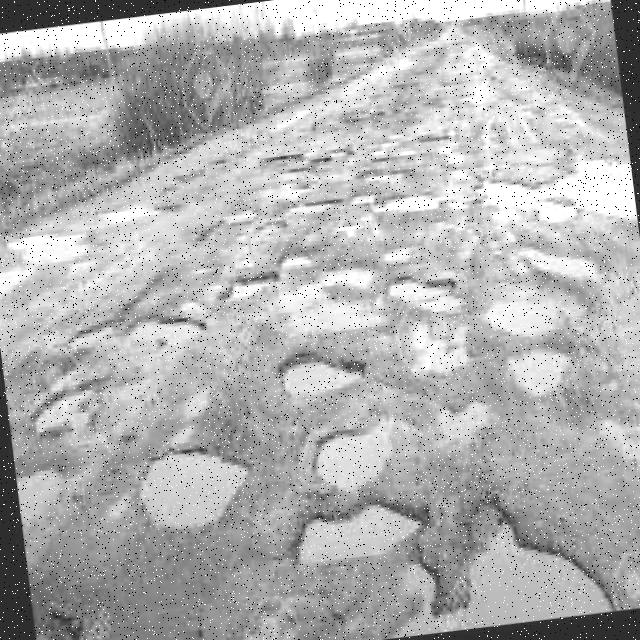pothole: (399, 531, 612, 637), (139, 452, 248, 530), (300, 509, 419, 564), (315, 425, 391, 488), (276, 351, 365, 397), (34, 374, 99, 432), (508, 348, 567, 396), (486, 303, 549, 342), (227, 271, 277, 305), (152, 317, 202, 346), (391, 264, 458, 285)
